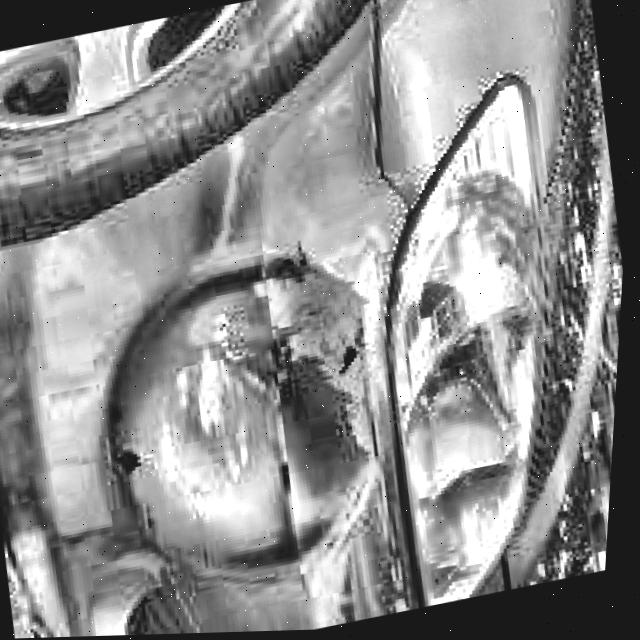bumper_dent: (72, 236, 408, 610)
